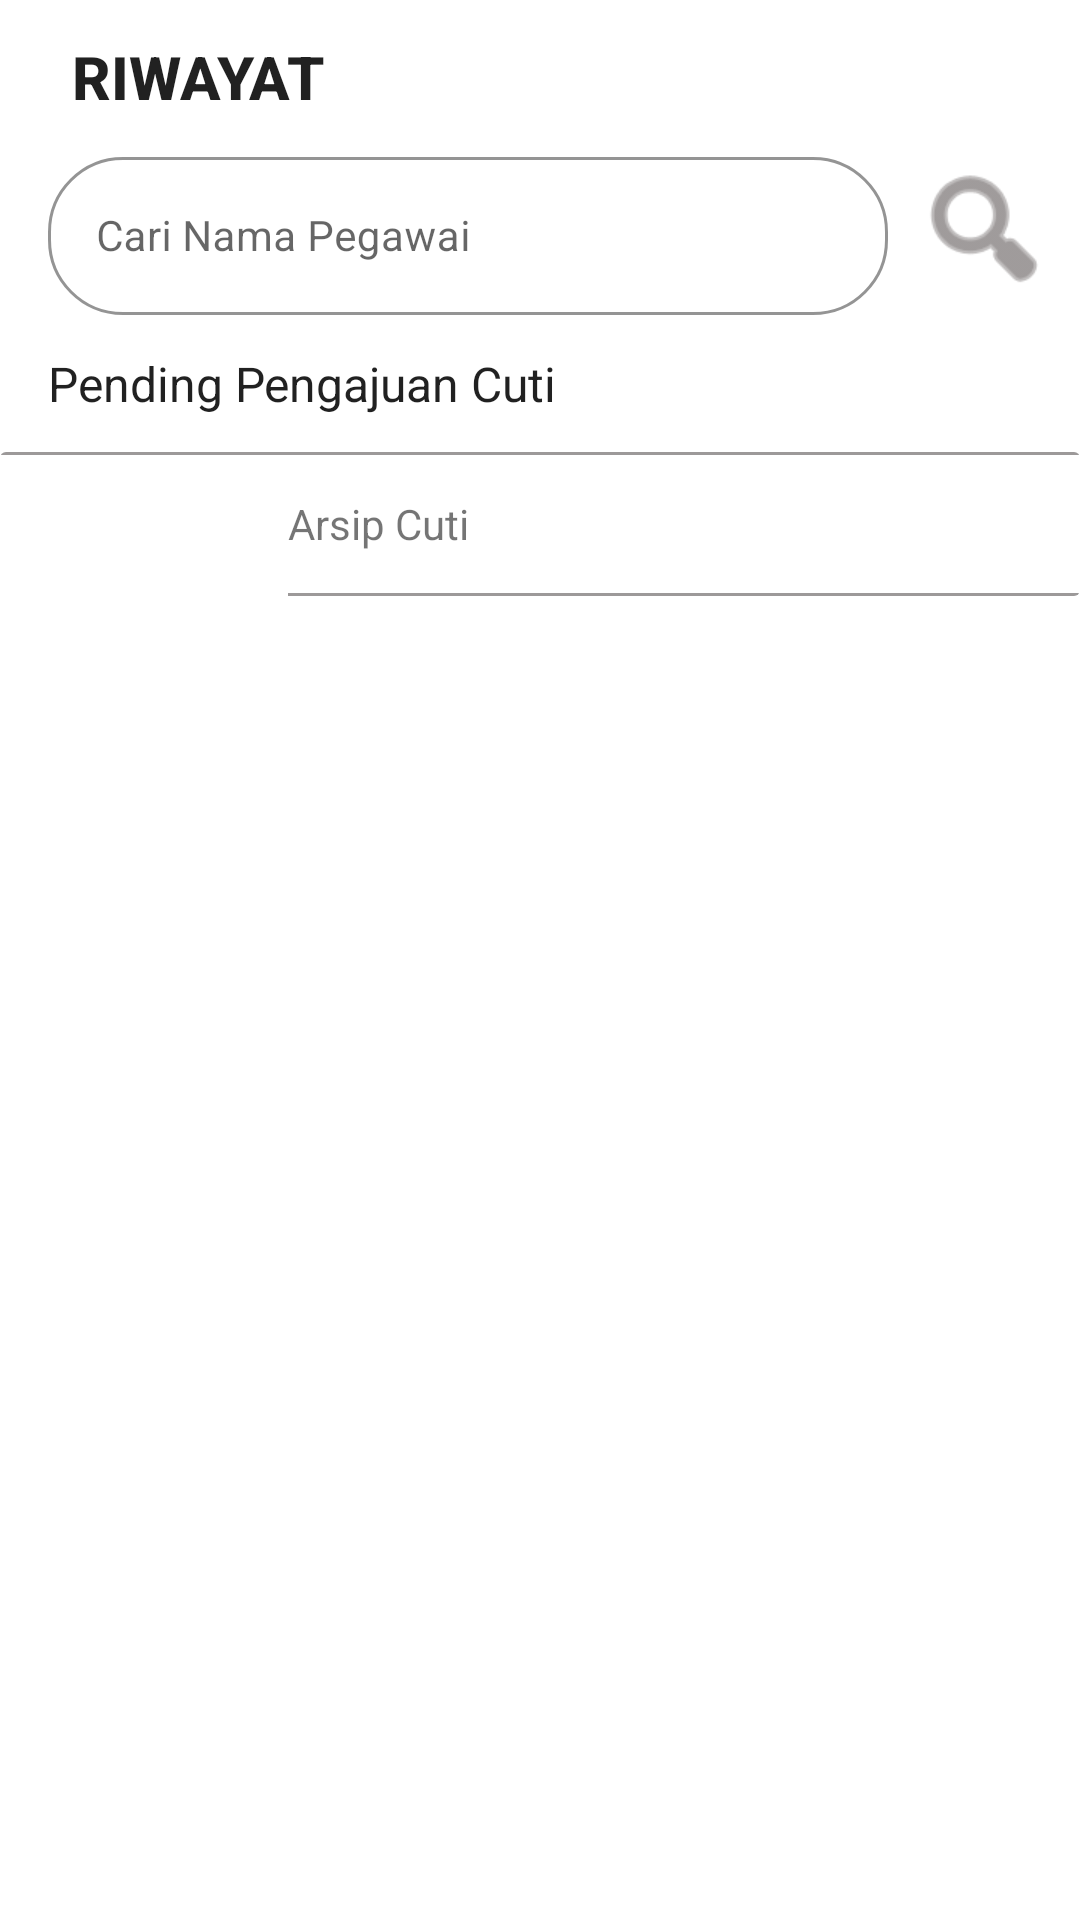

Where icons sit on this 1080×1920 app screen, as [x1, y1, x2, y2]:
search: [931, 175, 1037, 282]
